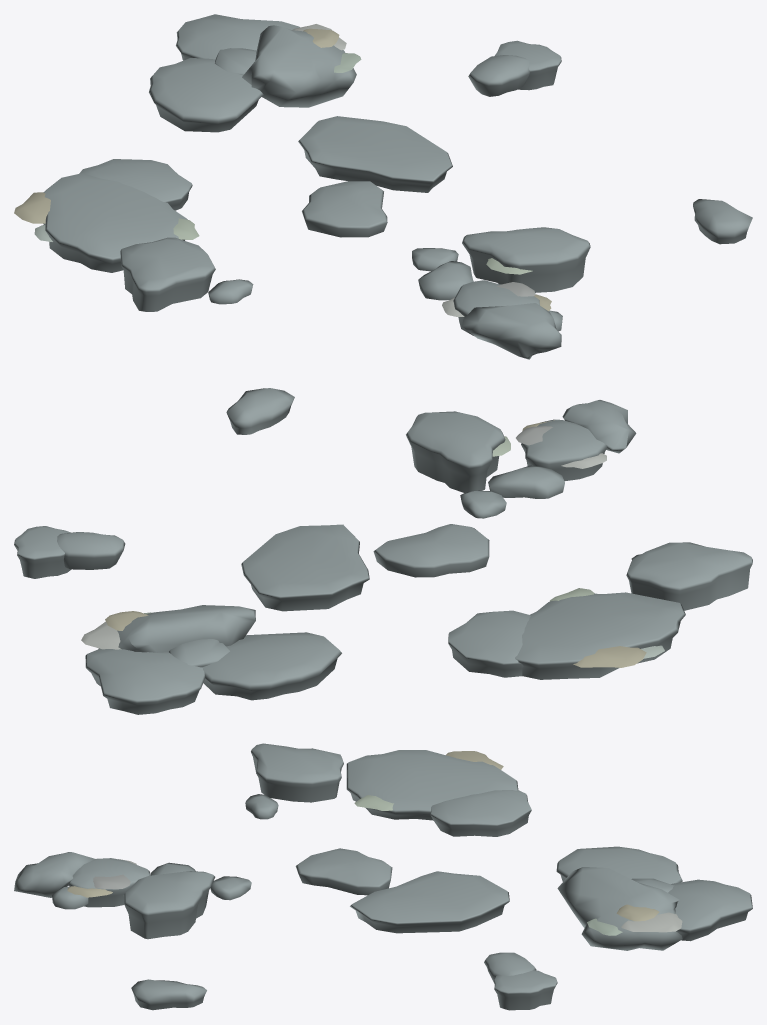
3 renders of one model, top to bottom at view 1: azimuth 30°, elevation 25°; view 2: azimuth 150°, elevation 25°; view 3: azimuth 270°, elevation 25°, orthographic. The views are drawn at different scales.
Visible parts, largest first — view 1: G:\FFXIV-MapTools\exports\y6t1\bg\ex5\02_ykt_y6\twn\y6t1\bgp (×2); view 2: G:\FFXIV-MapTools\exports\y6t1\bg\ex5\02_ykt_y6\twn\y6t1\bgp (×2); view 3: G:\FFXIV-MapTools\exports\y6t1\bg\ex5\02_ykt_y6\twn\y6t1\bgp (×2).
Boxes of the visible parts, left/top/right/bottom form: G:\FFXIV-MapTools\exports\y6t1\bg\ex5\02_ykt_y6\twn\y6t1\bgp (×2): left=14, top=14, right=752, bottom=359; G:\FFXIV-MapTools\exports\y6t1\bg\ex5\02_ykt_y6\twn\y6t1\bgp (×2): left=14, top=388, right=752, bottom=714; G:\FFXIV-MapTools\exports\y6t1\bg\ex5\02_ykt_y6\twn\y6t1\bgp (×2): left=14, top=743, right=752, bottom=1010.
Size of the model in its own units: 41.78 by 4.08 by 52.7.
